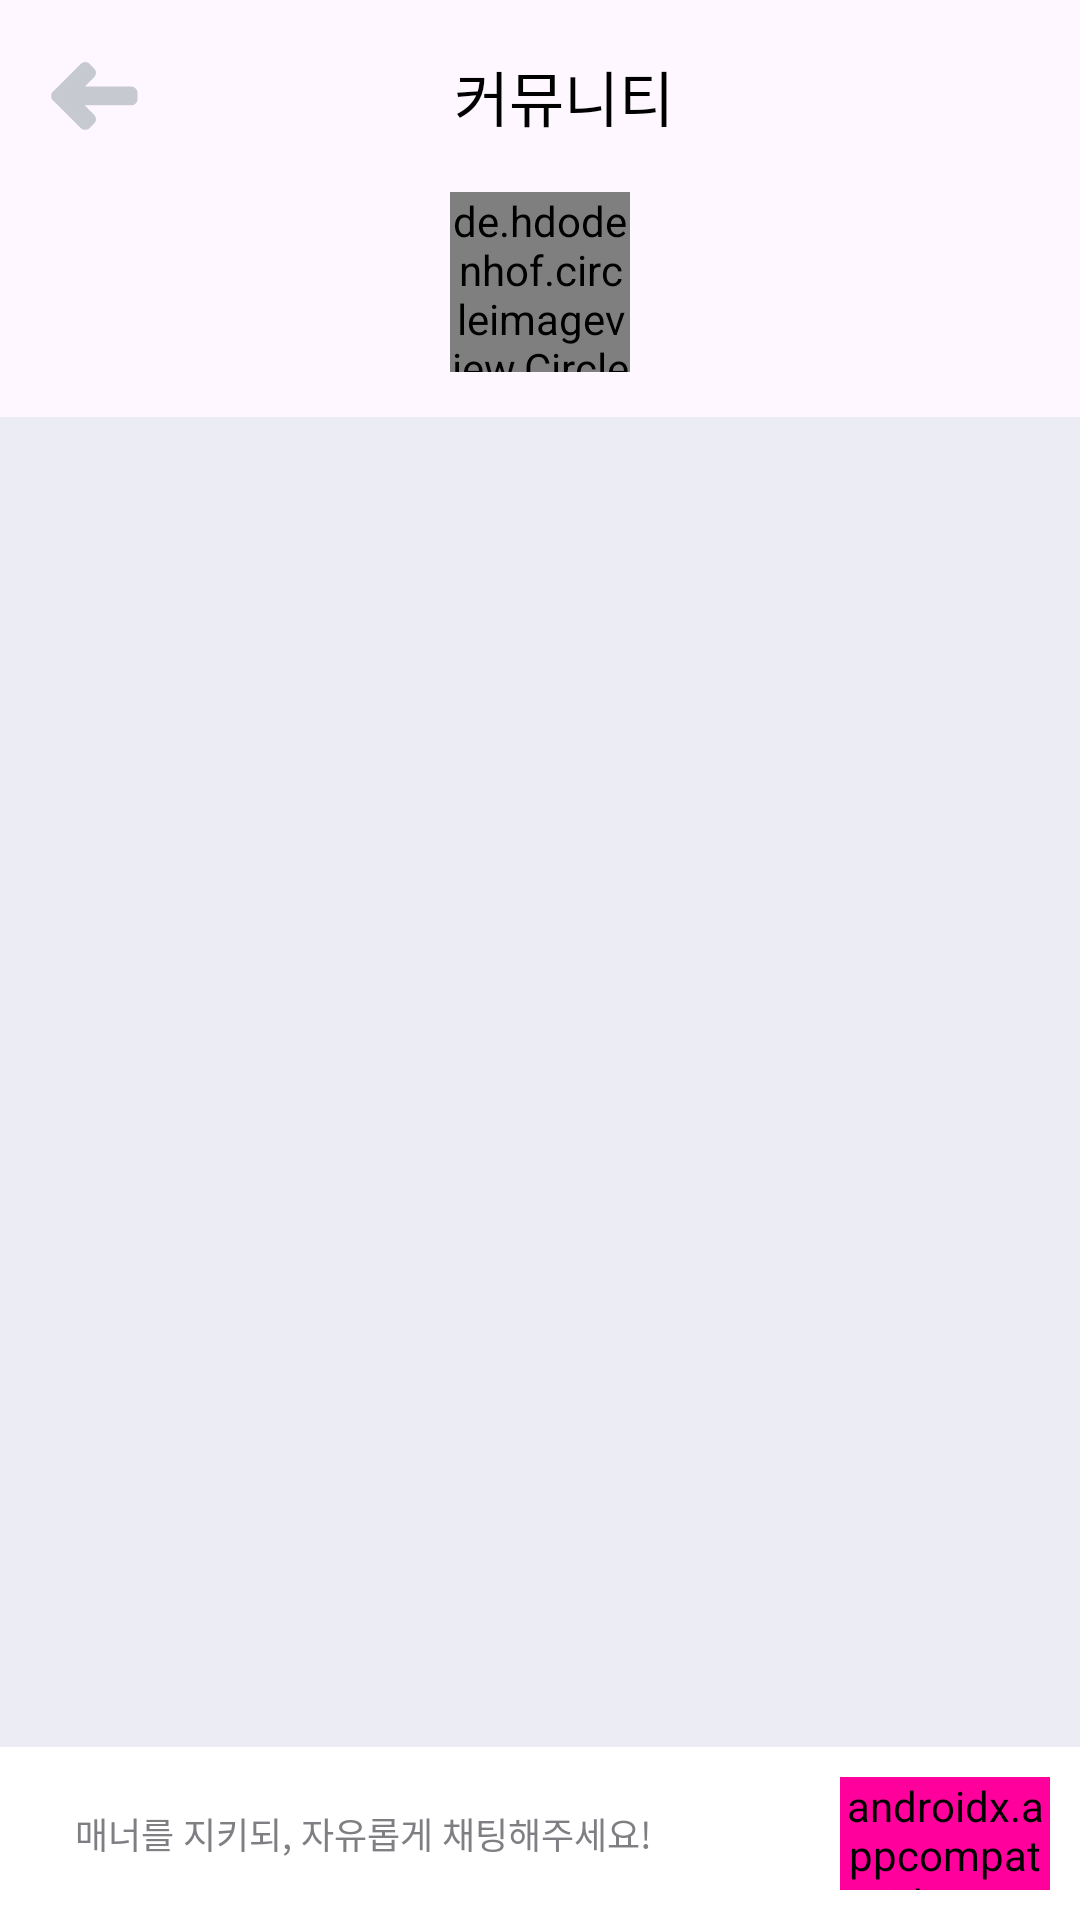

Icons on this 1080 x 1920 Android screen, each with its box as (x1, y1, x2, y2):
back: (51, 62, 138, 130)
